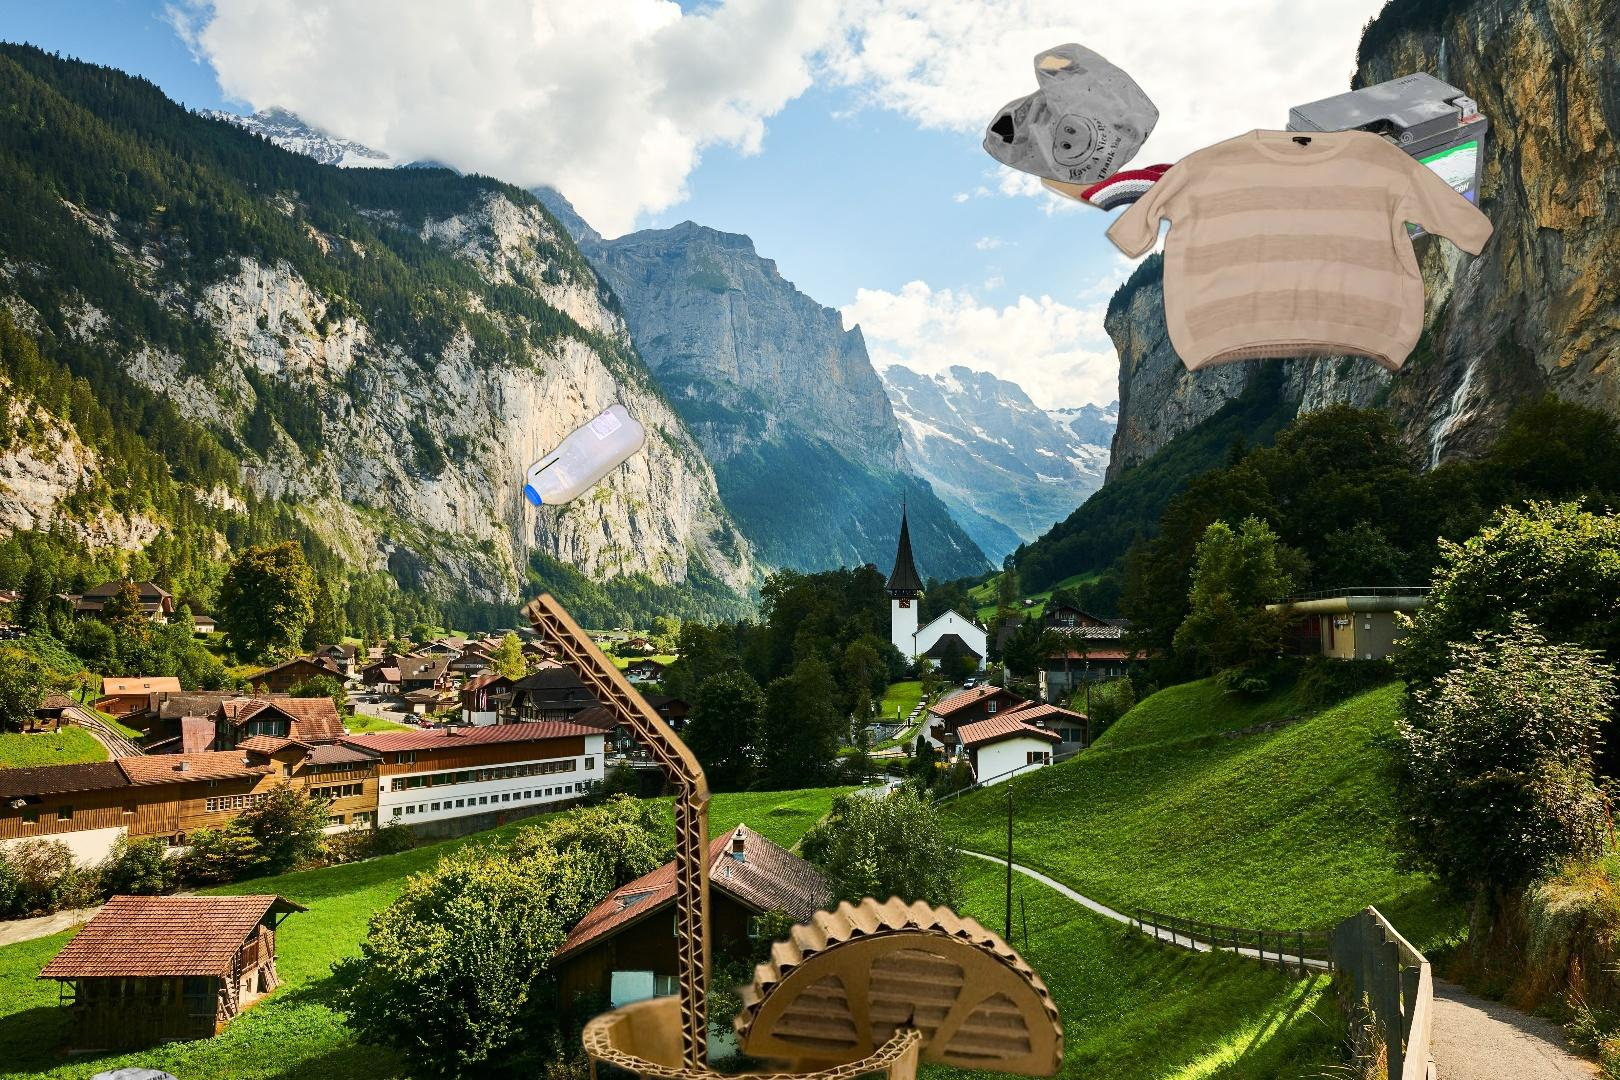battery: (1282, 69, 1491, 269), (1260, 105, 1465, 270)
clothes: (1103, 124, 1497, 376)
plastic-bag: (980, 42, 1162, 188), (84, 1064, 272, 1080)
plastic-bottles: (520, 256, 885, 512)
shoes: (1038, 157, 1222, 233)
trashbox-cardboard: (404, 583, 1070, 1080)
